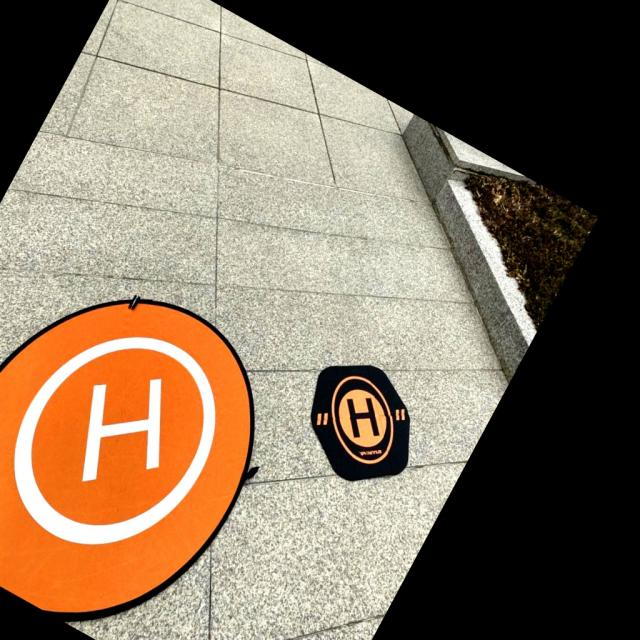helipad: (9, 329, 222, 552), (326, 372, 396, 466)
